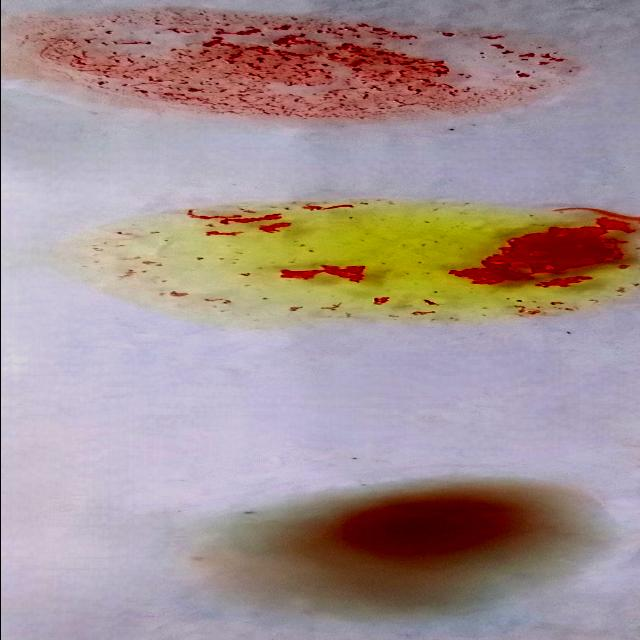B: (70, 207, 640, 320)
D: (36, 17, 590, 118)
